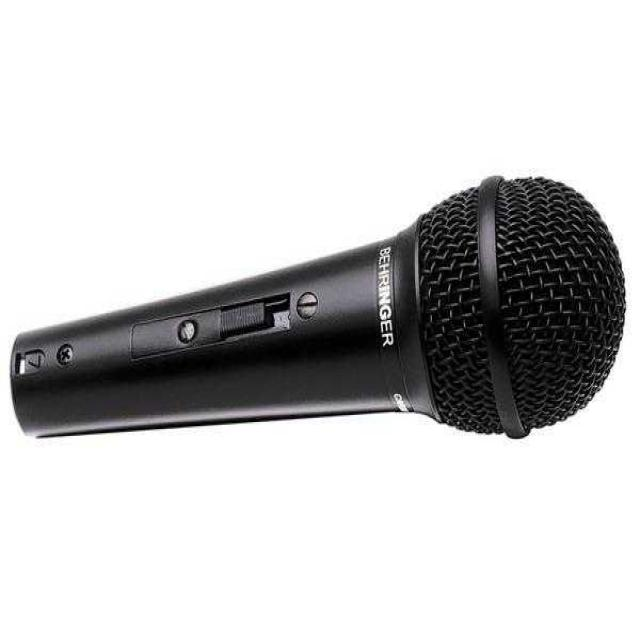microphone: (9, 173, 624, 438)
